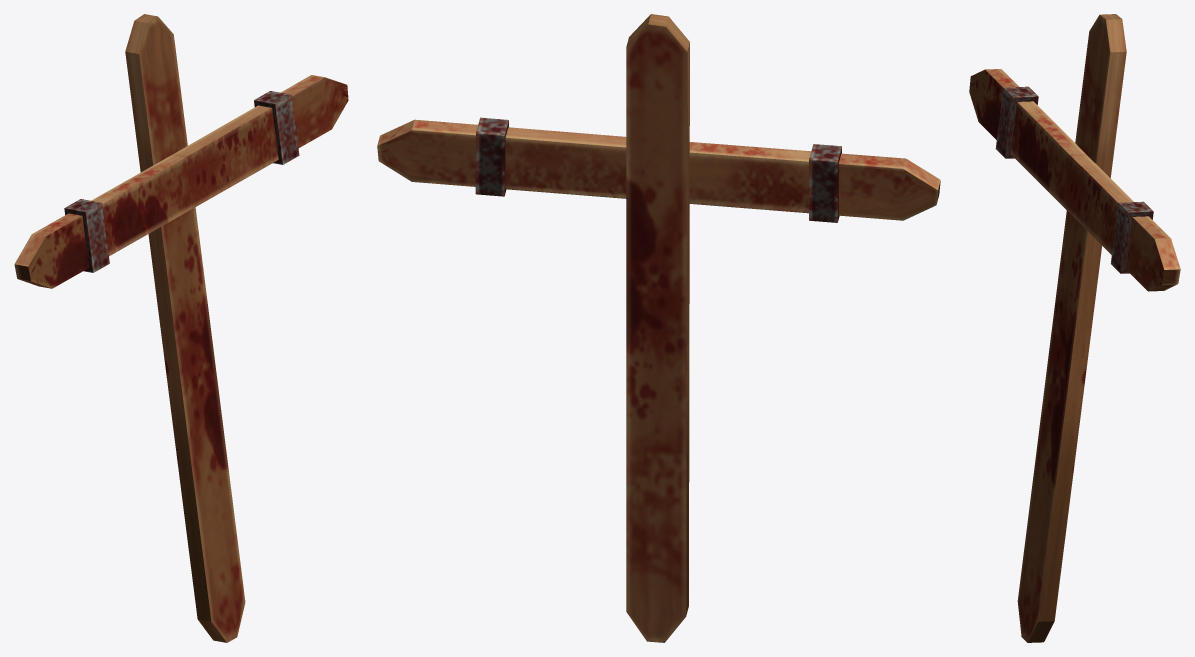
Rendered from TianZhuJiaoTang_01_shounanshizi_01.FBX.
3 renders of one model, left to right at view 1: azimuth 30°, elevation 25°; view 2: azimuth 150°, elevation 25°; view 3: azimuth 270°, elevation 25°, orthographic. The views are drawn at different scales.
Visible parts, largest first — view 1: TianZhuJiaoTang_01_shounanshizi_01; view 2: TianZhuJiaoTang_01_shounanshizi_01; view 3: TianZhuJiaoTang_01_shounanshizi_01.
Boxes of the visible parts, x1,y1,x2,y2 form: TianZhuJiaoTang_01_shounanshizi_01: (14,14,348,642); TianZhuJiaoTang_01_shounanshizi_01: (377,14,940,642); TianZhuJiaoTang_01_shounanshizi_01: (969,14,1180,642).
Bounding box in the file's own units: 672 × 921 × 291.
